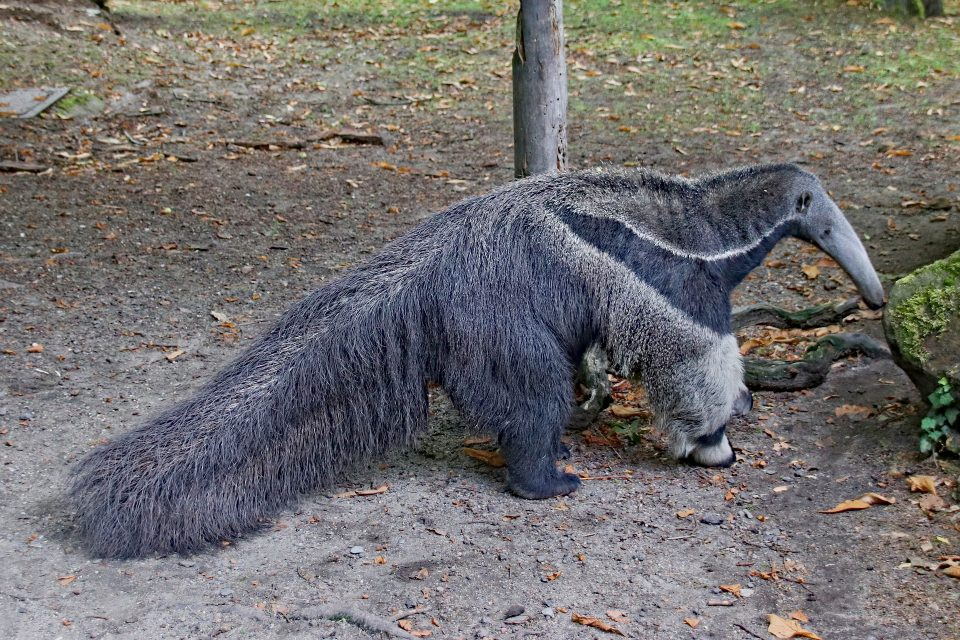TamanduaBandeira: (68, 161, 893, 511)
